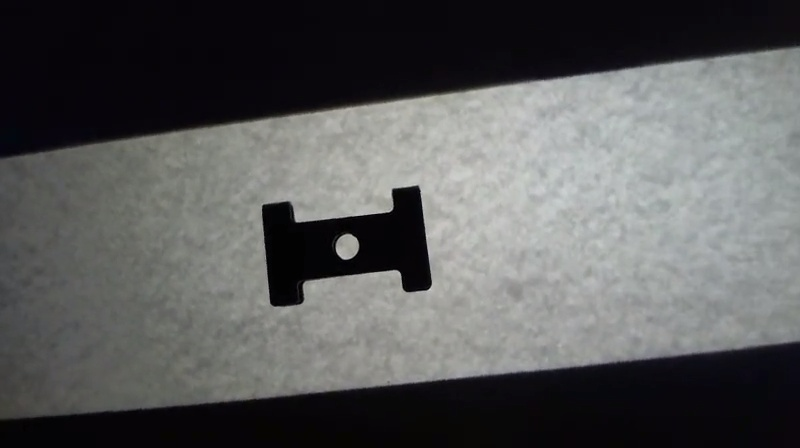O002: (256, 179, 436, 309)
